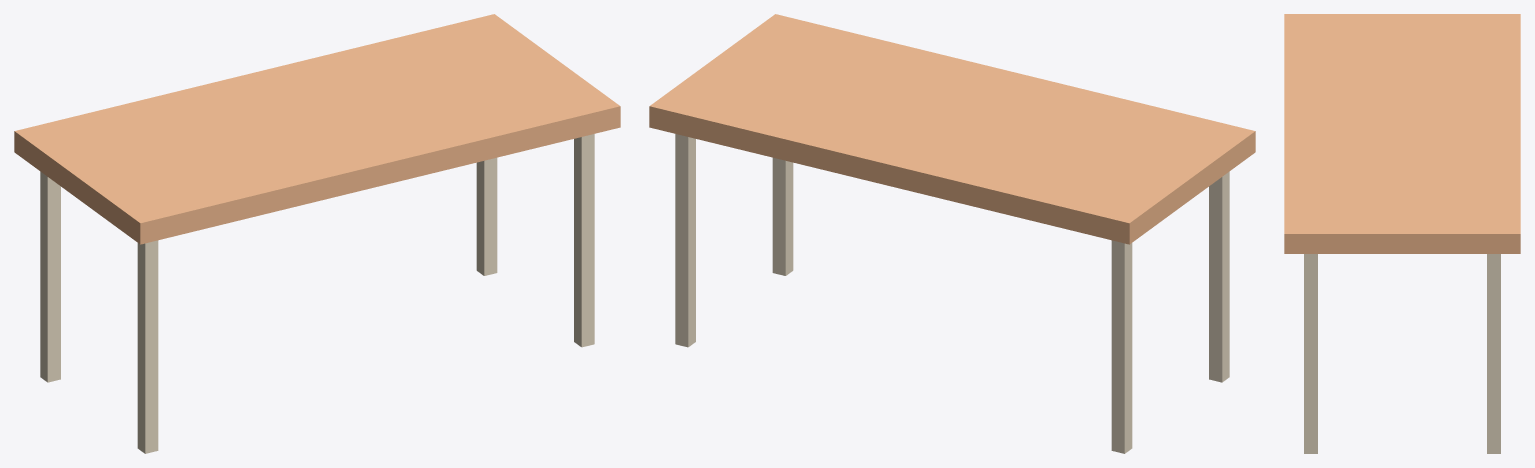
The picture shows the model from 3 angles, left to right: view 1: azimuth 30°, elevation 25°; view 2: azimuth 150°, elevation 25°; view 3: azimuth 270°, elevation 25°; orthographic projection. The views are drawn at different scales.
Parts seen in each view (by area): view 1: Top; view 2: Top; view 3: Top.
Boxes of the visible parts, x1=… form: Top: x1=14, y1=14, x2=620, y2=453; Top: x1=649, y1=14, x2=1255, y2=453; Top: x1=1284, y1=14, x2=1520, y2=453.
Size of the model in its own units: 1.65 by 0.795 by 0.75.
1 material, 1 textured.
